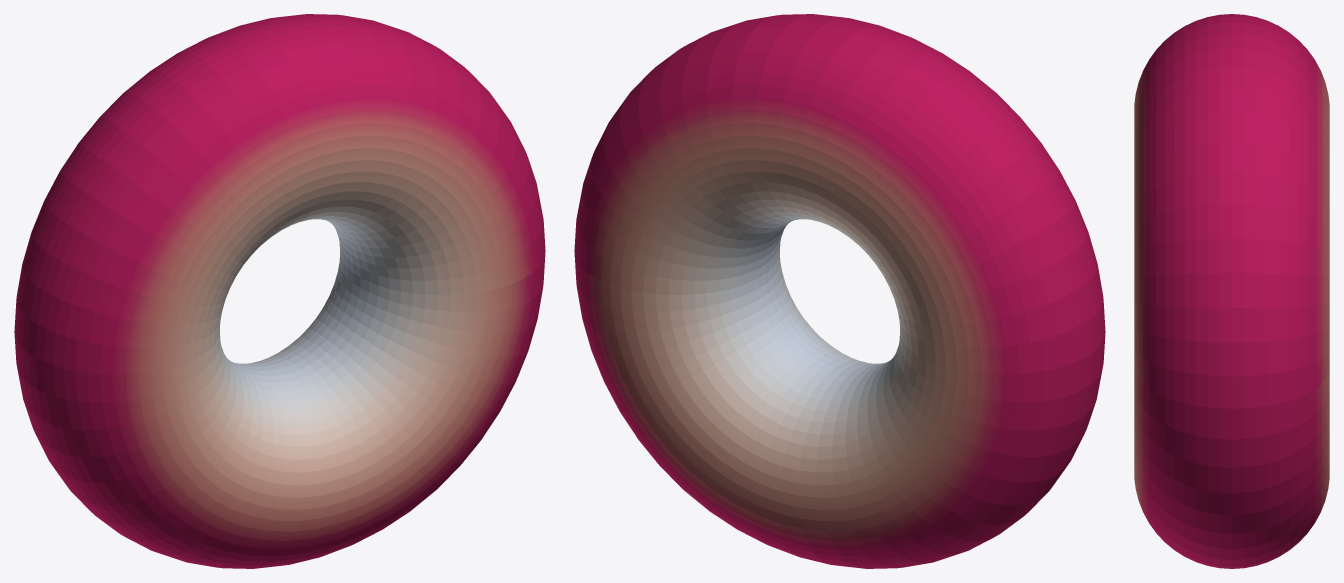
3 views of the same model, side by side, from view 1: azimuth 30°, elevation 25°; view 2: azimuth 150°, elevation 25°; view 3: azimuth 270°, elevation 25° (orthographic). The views are drawn at different scales.
Parts seen in each view (by area): view 1: world; view 2: world; view 3: world.
Part boxes in pixels (x1,y1,x2,y2): world: (14, 14, 545, 568); world: (574, 14, 1105, 568); world: (1134, 14, 1329, 568).
Size of the model in its own units: 26.8 by 26.75 by 9.45.
